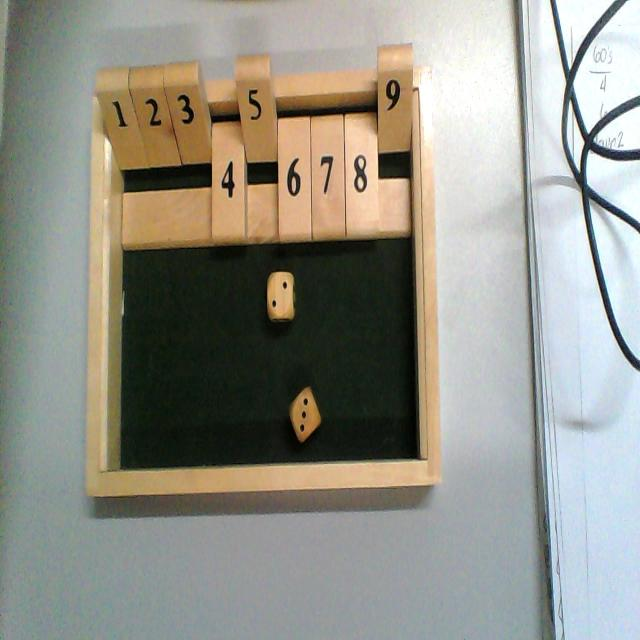2: (264, 268, 298, 326)
3: (285, 384, 323, 449)
C4: (211, 77, 245, 245)
C6: (277, 75, 312, 245)
C7: (310, 73, 346, 240)
C8: (344, 72, 380, 240)
O1: (96, 66, 150, 255)
O2: (130, 66, 181, 250)
O3: (164, 64, 212, 248)
O5: (235, 54, 279, 244)
O9: (379, 42, 414, 240)
